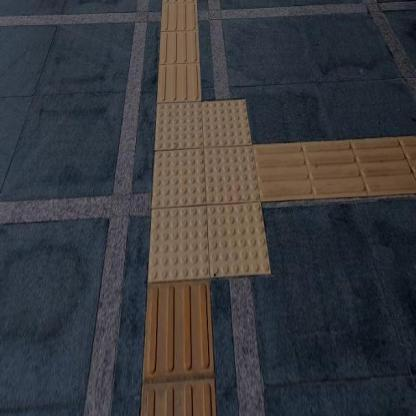podotacti: (124, 58, 292, 306), (260, 128, 415, 206), (142, 283, 218, 415), (157, 0, 202, 101)
